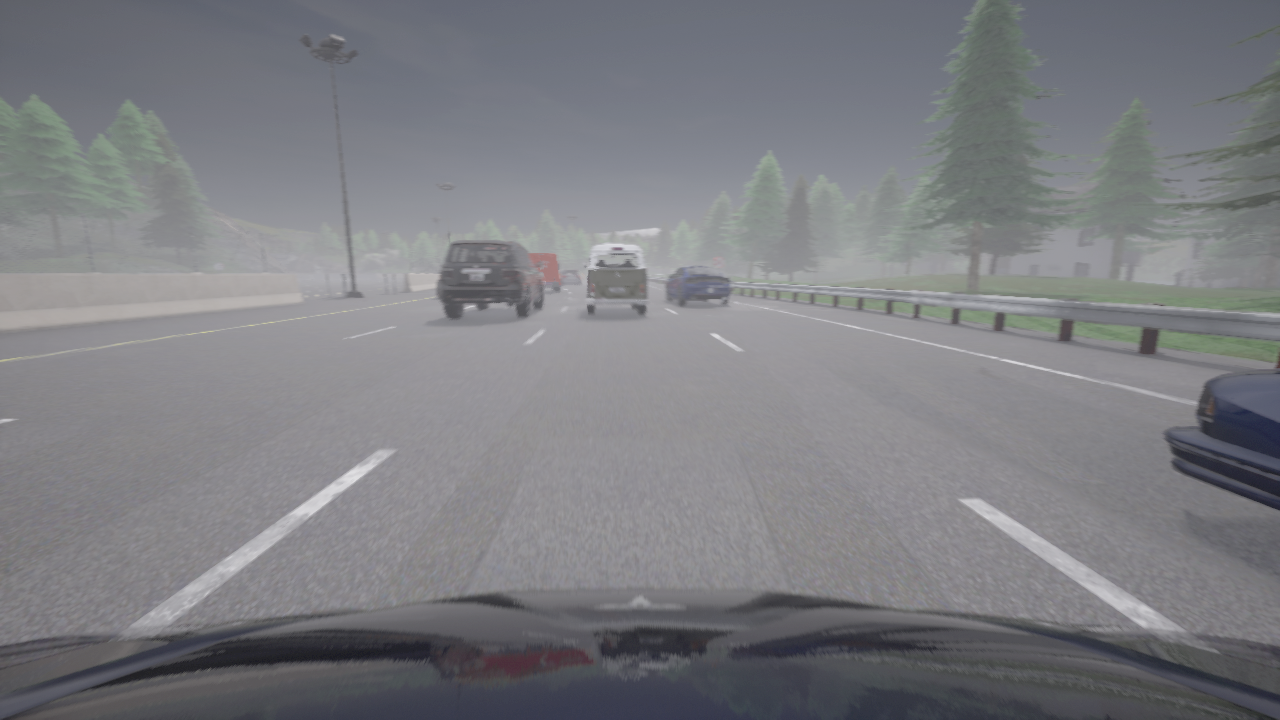cyclist: (0, 588, 1279, 719), (1163, 369, 1279, 511), (439, 240, 543, 318), (583, 243, 647, 314), (666, 265, 730, 305), (528, 253, 560, 291), (558, 270, 580, 284), (437, 278, 439, 297)
